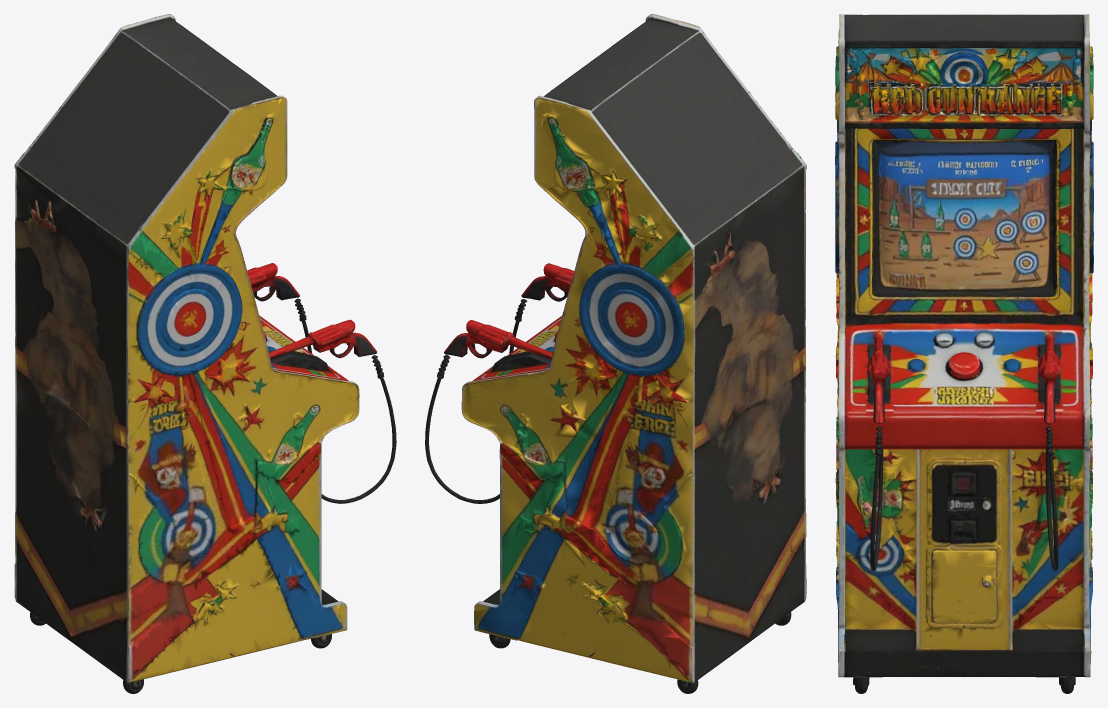
Rendered from arc-redgun.glb.
3 renders of one model, left to right at view 1: azimuth 30°, elevation 25°; view 2: azimuth 150°, elevation 25°; view 3: azimuth 270°, elevation 25°, orthographic. The views are drawn at different scales.
Parts seen in each view (by area): view 1: tripo_node_d92cab5b-aa69-419c-9b33-04da960df6f7; view 2: tripo_node_d92cab5b-aa69-419c-9b33-04da960df6f7; view 3: tripo_node_d92cab5b-aa69-419c-9b33-04da960df6f7.
Boxes of the visible parts, <box> form: tripo_node_d92cab5b-aa69-419c-9b33-04da960df6f7: <box>14,14,396,693</box>; tripo_node_d92cab5b-aa69-419c-9b33-04da960df6f7: <box>425,14,806,693</box>; tripo_node_d92cab5b-aa69-419c-9b33-04da960df6f7: <box>835,14,1093,693</box>.
Bounding box in the file's own units: 0.5234 × 1 × 0.3736.
1 material, 1 textured.
